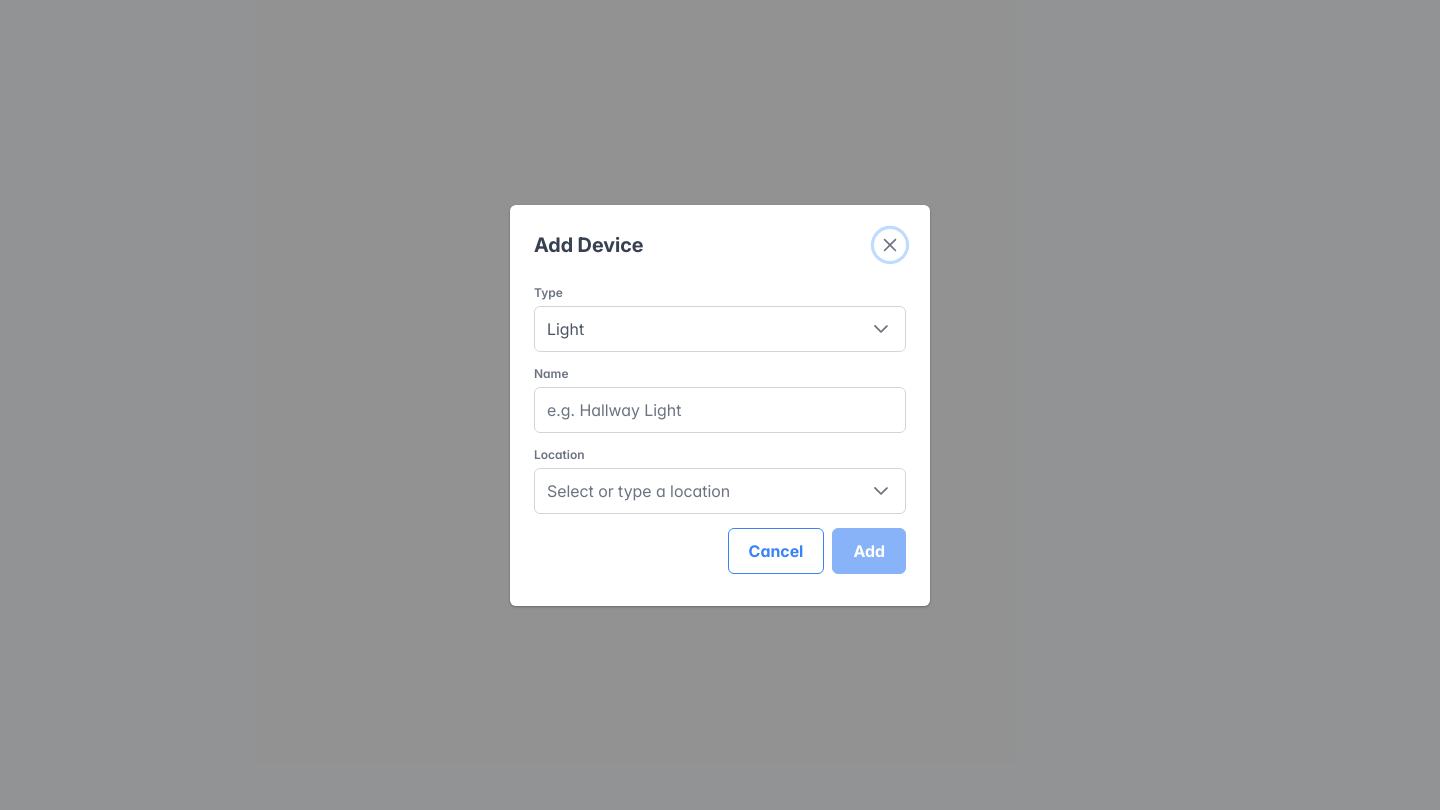
Test case: AddDeviceModal › clears submit error when user changes any field
Later steps or results of the test are not shown.
Type "Test Light" into the field with placeholder "e.g. Hallway Light" at {"x": 720, "y": 410}, box [534,386,906,432]
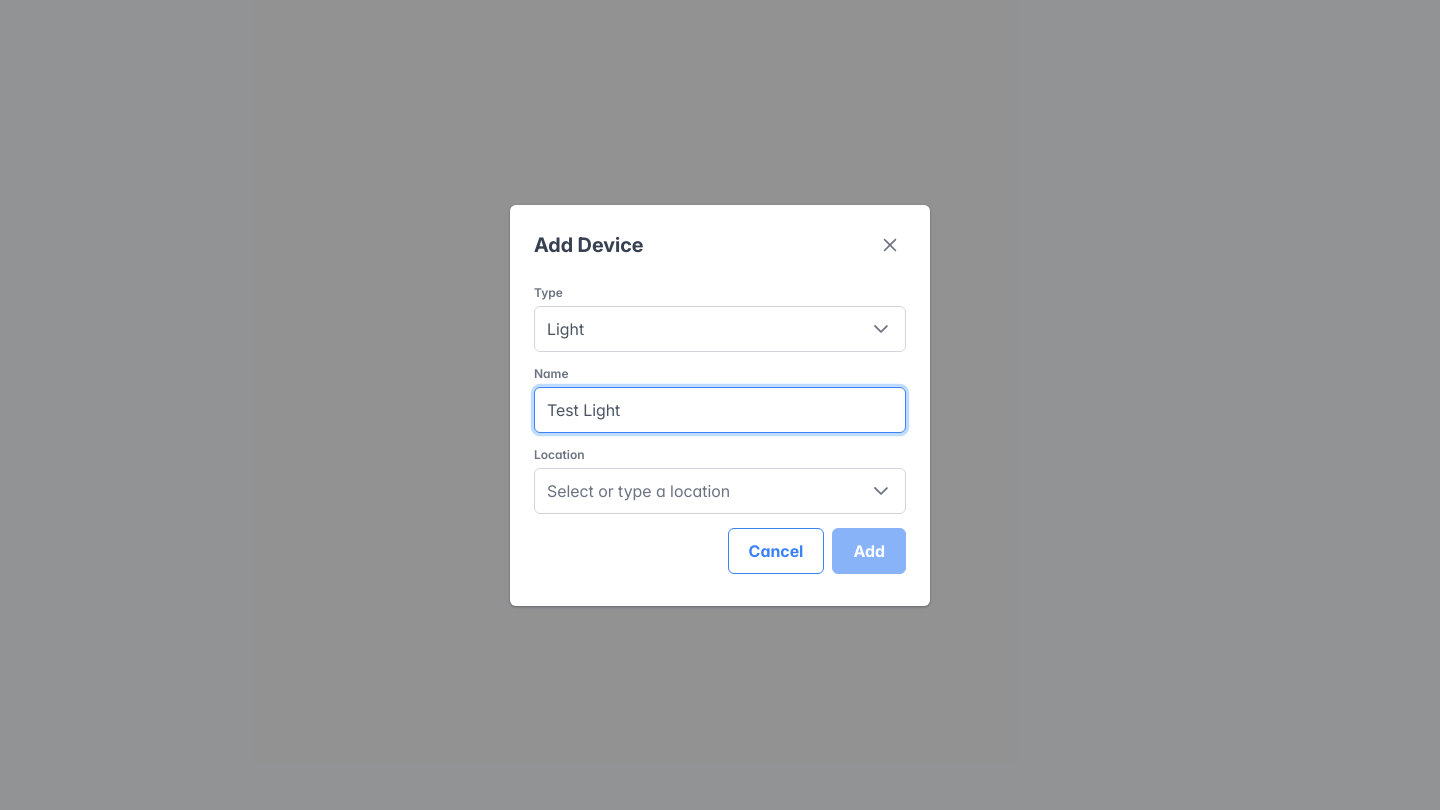
Type "Living Room" into the field with placeholder "Select or type a location" at {"x": 696, "y": 490}, box [535,468,857,512]
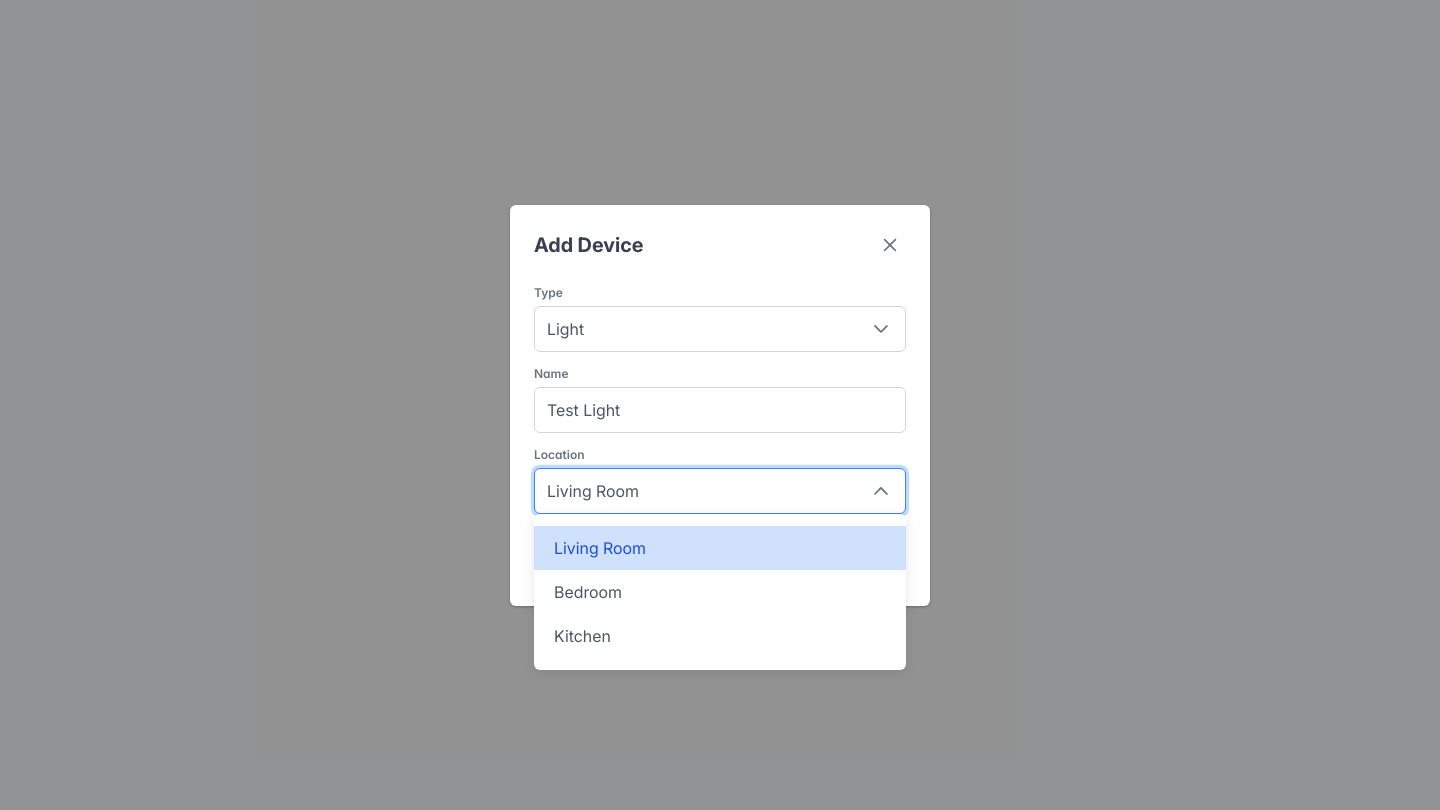
Press Enter
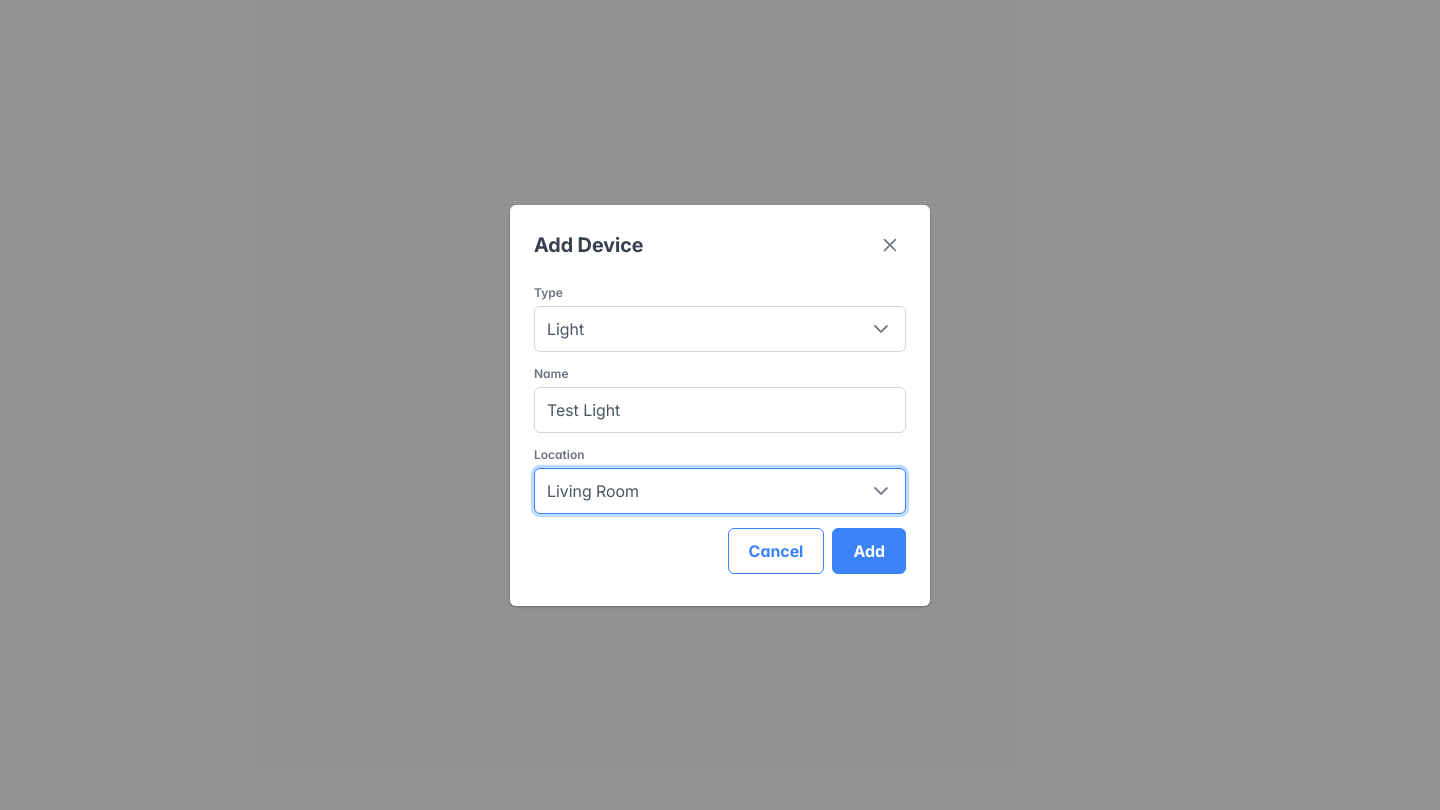
Click the button "Add" at {"x": 869, "y": 550}, box [832,528,906,574]
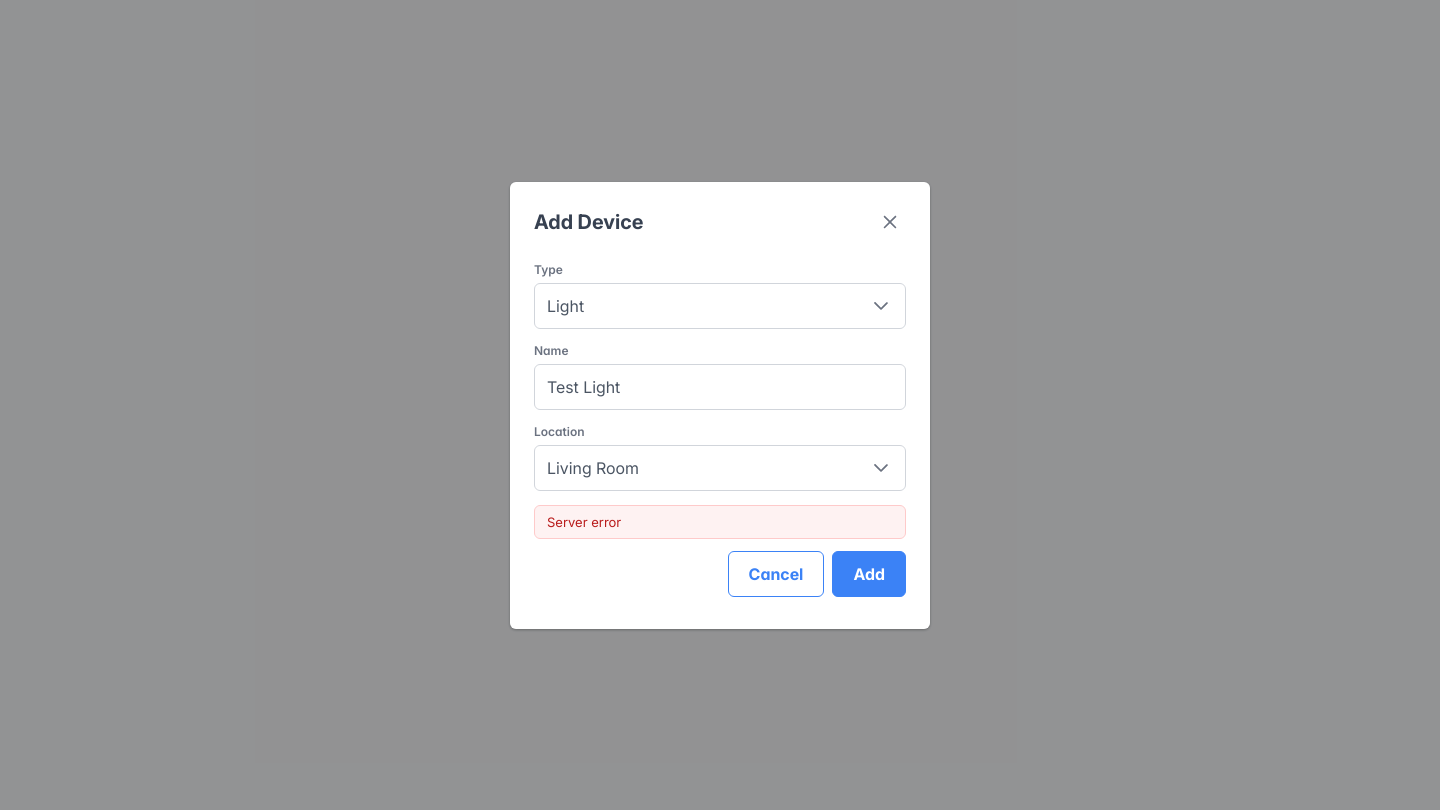
Expected: the text "Server error" is shown, [534,504,906,538]
